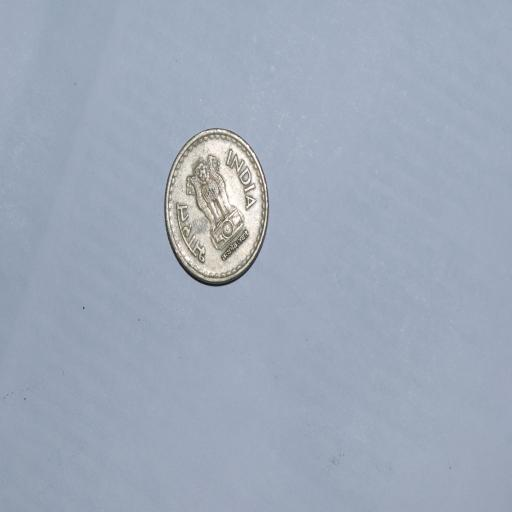rupee5: (164, 130, 272, 289)
